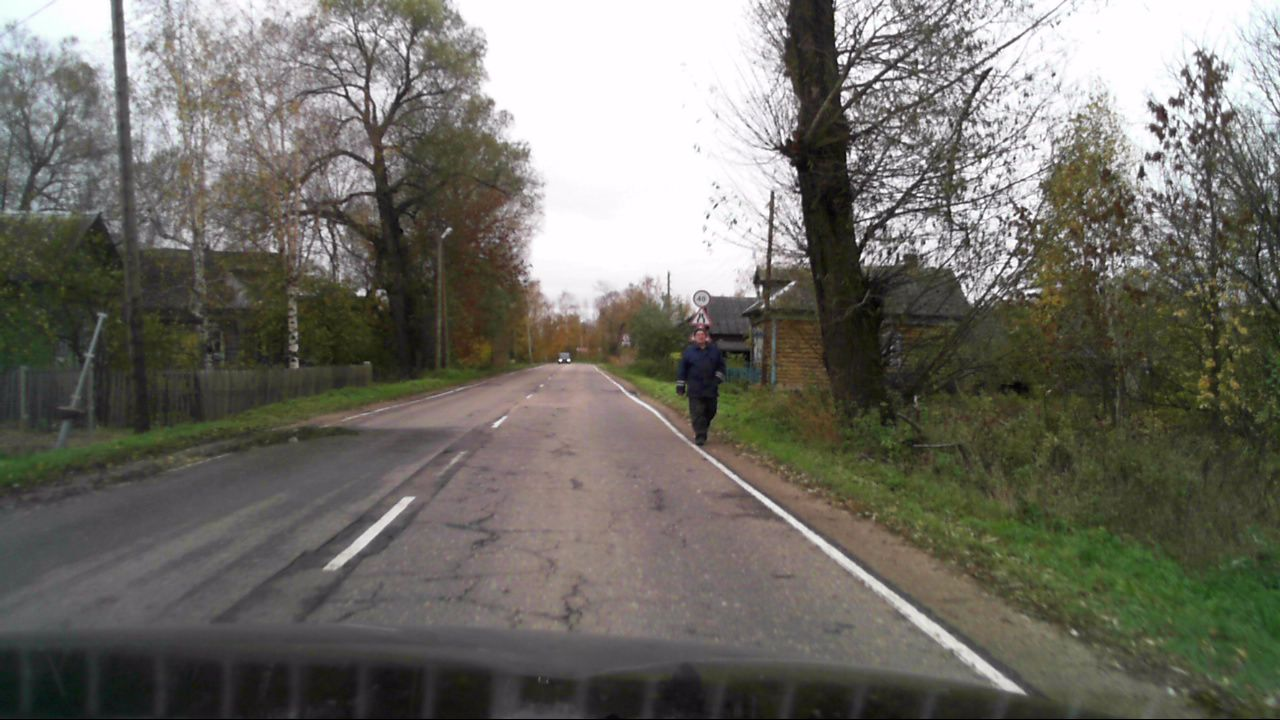speed_warning_40: (692, 289, 710, 307)
